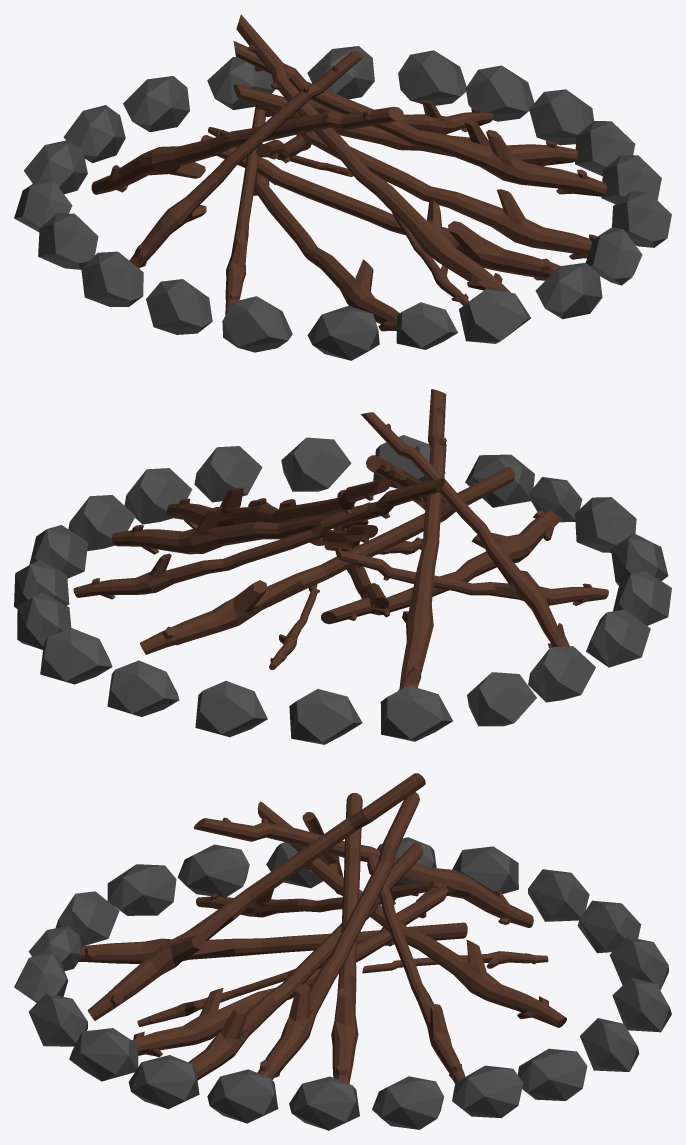
The model's file is FIREPLACE1.fbx.
3 renders of one model, top to bottom at view 1: azimuth 30°, elevation 25°; view 2: azimuth 150°, elevation 25°; view 3: azimuth 270°, elevation 25°, orthographic.
Parts seen in each view (by area): view 1: Cylinder.010, Cylinder, Cylinder.007, Cylinder.001, Cylinder.005, Cylinder.011, Cylinder.006, Cylinder.002, Icosphere.016, Icosphere.017, Icosphere.005, Icosphere.015 (+22 smaller); view 2: Cylinder.004, Cylinder.002, Cylinder.007, Cylinder.003, Cylinder.011, Cylinder, Cylinder.006, Cylinder.008, Icosphere.011, Icosphere.010, Icosphere.009, Icosphere.007 (+22 smaller); view 3: Cylinder.010, Cylinder, Cylinder.004, Cylinder.007, Cylinder.001, Cylinder.006, Cylinder.005, Cylinder.002, Cylinder.003, Icosphere.016, Icosphere.004, Icosphere.003 (+22 smaller).
Part boxes in pixels (left/top/right/bottom): Cylinder.010: left=236, top=14, right=510, bottom=292; Cylinder: left=233, top=41, right=606, bottom=196; Cylinder.007: left=91, top=106, right=403, bottom=194; Cylinder.001: left=242, top=84, right=597, bottom=259; Cylinder.005: left=200, top=135, right=559, bottom=280; Cylinder.011: left=129, top=50, right=363, bottom=268; Cylinder.006: left=236, top=146, right=399, bottom=331; Cylinder.002: left=233, top=84, right=578, bottom=166; Icosphere.016: left=222, top=296, right=292, bottom=352; Icosphere.017: left=307, top=306, right=379, bottom=360; Icosphere.005: left=398, top=50, right=466, bottom=105; Icosphere.015: left=146, top=279, right=212, bottom=334; Cylinder.004: left=139, top=467, right=514, bottom=654; Cylinder.002: left=111, top=477, right=444, bottom=554; Cylinder.007: left=398, top=389, right=446, bottom=690; Cylinder.003: left=73, top=502, right=370, bottom=599; Cylinder.011: left=361, top=412, right=569, bottom=647; Cylinder: left=166, top=478, right=390, bottom=528; Cylinder.006: left=321, top=510, right=561, bottom=624; Cylinder.008: left=335, top=549, right=608, bottom=605; Icosphere.011: left=380, top=685, right=452, bottom=741; Icosphere.010: left=289, top=689, right=362, bottom=744; Icosphere.009: left=195, top=681, right=267, bottom=737; Icosphere.007: left=40, top=628, right=112, bottom=684; Cylinder.010: left=87, top=773, right=425, bottom=1020; Cylinder: left=257, top=792, right=419, bottom=1079; Cylinder.004: left=257, top=801, right=566, bottom=1027; Cylinder.007: left=193, top=817, right=533, bottom=927; Cylinder.001: left=188, top=843, right=423, bottom=1080; Cylinder.006: left=78, top=922, right=467, bottom=963; Cylinder.005: left=132, top=885, right=446, bottom=1057; Cylinder.002: left=331, top=793, right=362, bottom=1083; Cylinder.003: left=367, top=855, right=465, bottom=1082; Icosphere.016: left=107, top=864, right=176, bottom=915; Icosphere.004: left=452, top=1065, right=523, bottom=1117; Icosphere.003: left=372, top=1076, right=444, bottom=1129.
Bounding box in the file's own units: 1.8 × 0.6636 × 1.87.
